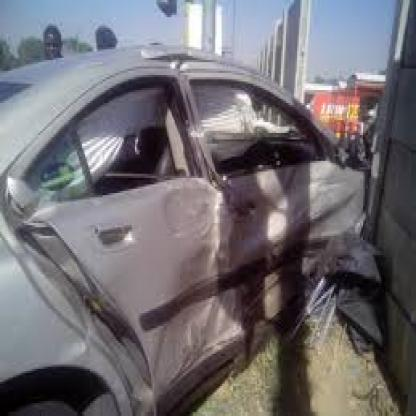accident: (21, 42, 416, 393)
